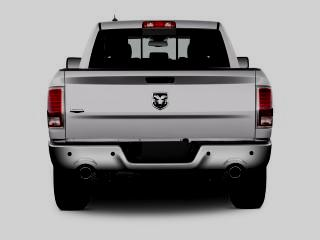ram: (145, 89, 174, 113)
